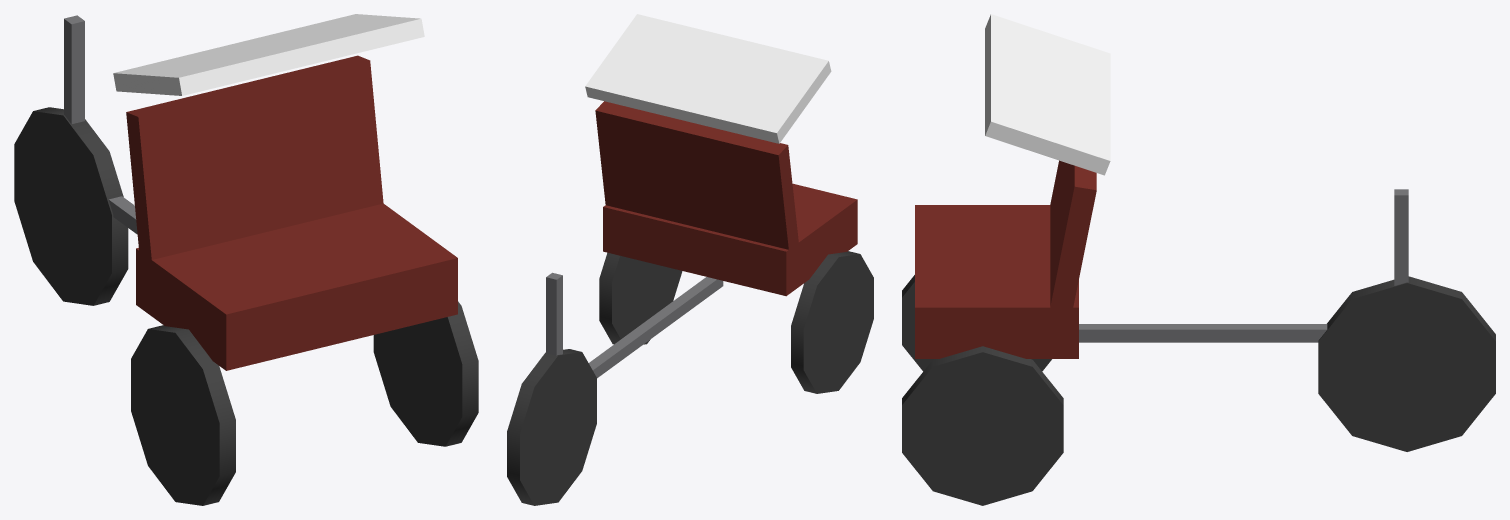
Rendered from cyclo_lod.glb.
3 views of the same model, side by side, from view 1: azimuth 30°, elevation 25°; view 2: azimuth 150°, elevation 25°; view 3: azimuth 270°, elevation 25° (orthographic). The views are drawn at different scales.
Visible parts, largest first — view 1: cyclo_lod; view 2: cyclo_lod; view 3: cyclo_lod.
Boxes of the visible parts, x1,y1,x2,y2 form: cyclo_lod: (14, 14, 478, 505); cyclo_lod: (507, 14, 873, 505); cyclo_lod: (902, 14, 1495, 505).
Size of the model in its own units: 0.96 by 1.49 by 2.1.
